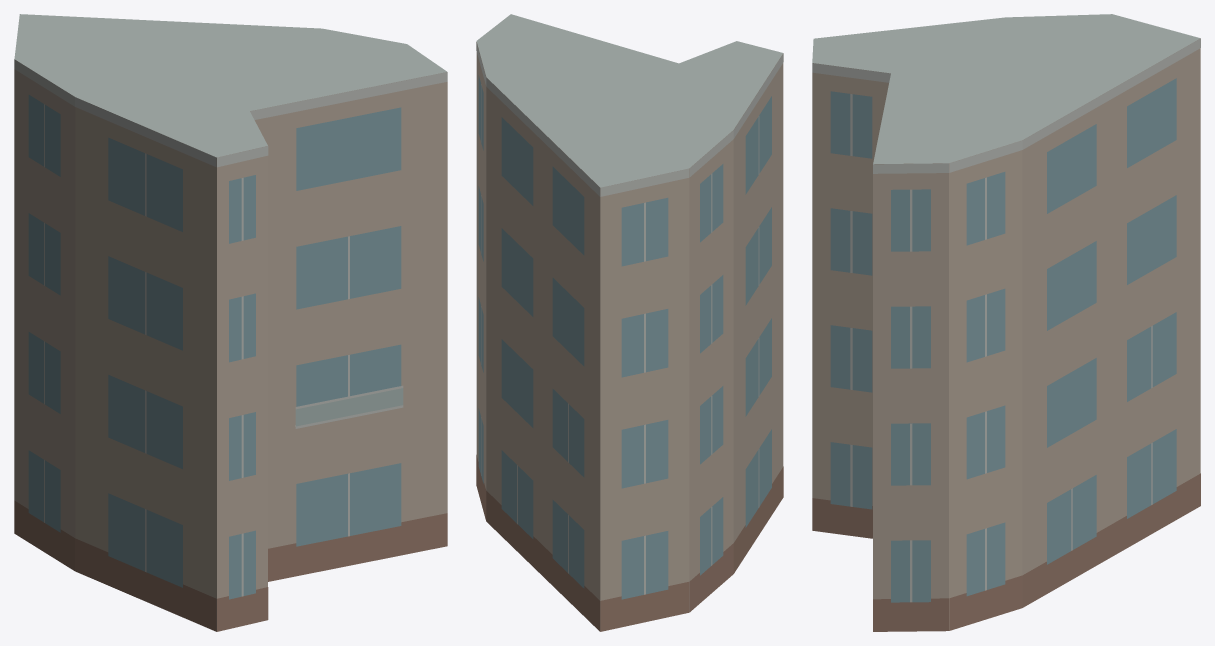
File: survey-upis-32461112.glb
3 views of the same model, side by side, from view 1: azimuth 30°, elevation 25°; view 2: azimuth 150°, elevation 25°; view 3: azimuth 270°, elevation 25° (orthographic). The views are drawn at different scales.
Parts seen in each view (by area): view 1: survey-upis-32461112.tmp; view 2: survey-upis-32461112.tmp; view 3: survey-upis-32461112.tmp.
Part boxes in pixels (x1=…): survey-upis-32461112.tmp: x1=14, y1=14, x2=447, y2=631; survey-upis-32461112.tmp: x1=476, y1=14, x2=783, y2=631; survey-upis-32461112.tmp: x1=812, y1=14, x2=1200, y2=631.
Bounding box in the file's own units: 8.06 × 11.7 × 8.82.
